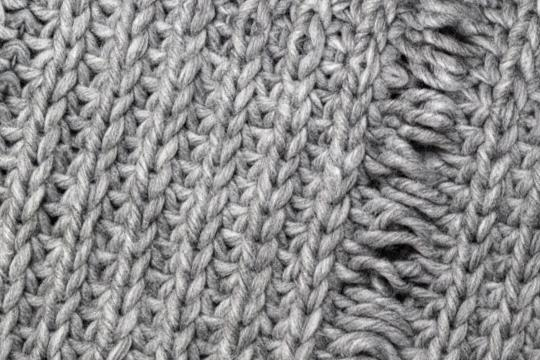slub: (312, 1, 499, 360)
